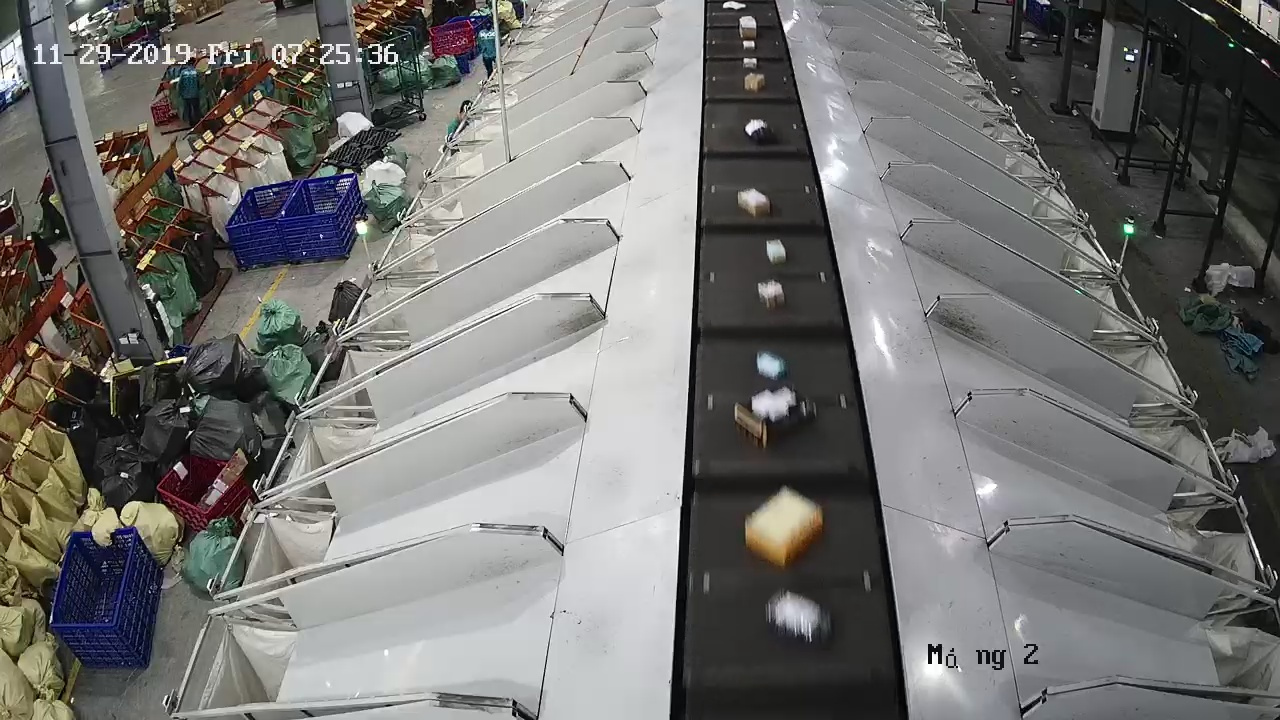parcel: (743, 485, 825, 569), (733, 385, 818, 451), (767, 589, 834, 649), (755, 349, 788, 382), (737, 187, 771, 218), (757, 280, 786, 311), (766, 238, 786, 266)
